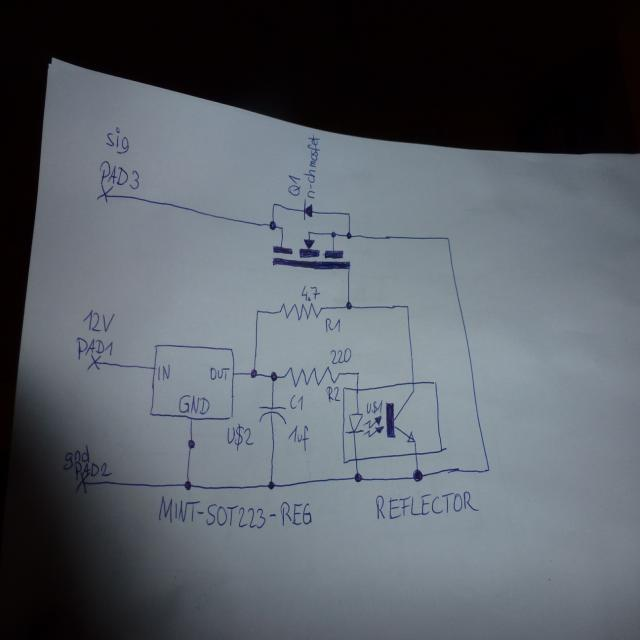capacitor: (258, 403, 286, 425)
diode: (302, 197, 314, 221)
junction: (412, 466, 424, 482), (248, 366, 260, 379), (352, 470, 363, 484), (442, 232, 452, 245), (266, 478, 276, 491), (182, 478, 192, 491), (268, 369, 278, 382), (268, 219, 277, 231), (482, 464, 492, 474), (344, 299, 352, 311), (344, 229, 352, 240), (254, 306, 261, 316), (345, 210, 352, 217), (404, 302, 409, 309), (355, 369, 360, 376), (271, 201, 276, 207)
resistor: (280, 363, 338, 387), (276, 300, 323, 322)
terminal: (73, 471, 90, 492), (95, 184, 112, 203), (86, 353, 101, 371)
text: (158, 494, 312, 530), (373, 488, 480, 522), (96, 160, 140, 192), (302, 132, 321, 199), (74, 335, 114, 361), (81, 308, 115, 333), (72, 461, 112, 481), (62, 442, 89, 471), (178, 392, 210, 415), (104, 128, 130, 155), (226, 424, 253, 448), (287, 424, 310, 448), (298, 282, 320, 302), (329, 346, 351, 366), (285, 172, 302, 197), (323, 314, 341, 334), (287, 392, 305, 411), (156, 363, 171, 382), (325, 384, 340, 403), (208, 366, 228, 380), (364, 398, 382, 413)
transistor: (270, 222, 352, 271)
